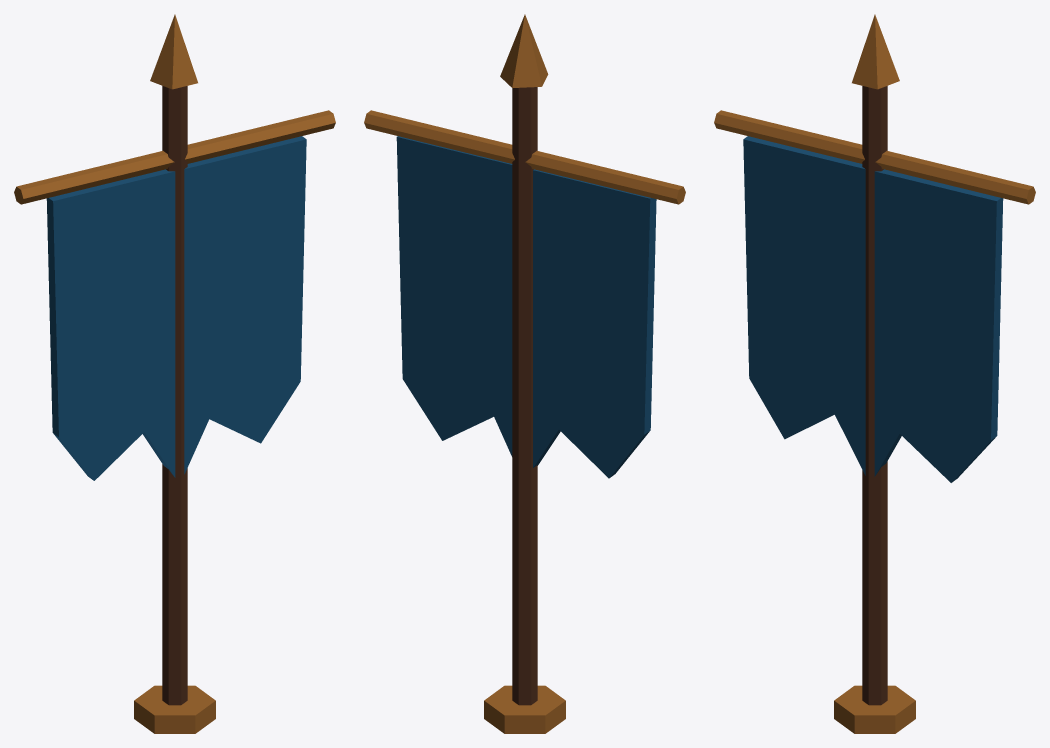
Rendered from battle_banner_aegean_owl_LOD2.glb.
3 renders of one model, left to right at view 1: azimuth 30°, elevation 25°; view 2: azimuth 150°, elevation 25°; view 3: azimuth 330°, elevation 25°, orthographic.
Visible parts, largest first — view 1: battle_banner_aegean_owl_LOD2; view 2: battle_banner_aegean_owl_LOD2; view 3: battle_banner_aegean_owl_LOD2.
Boxes of the visible parts, <box> form: battle_banner_aegean_owl_LOD2: <box>14,14,335,733</box>; battle_banner_aegean_owl_LOD2: <box>364,14,685,733</box>; battle_banner_aegean_owl_LOD2: <box>714,14,1035,733</box>.
Size of the model in its own units: 2.12 by 4.57 by 0.48.
